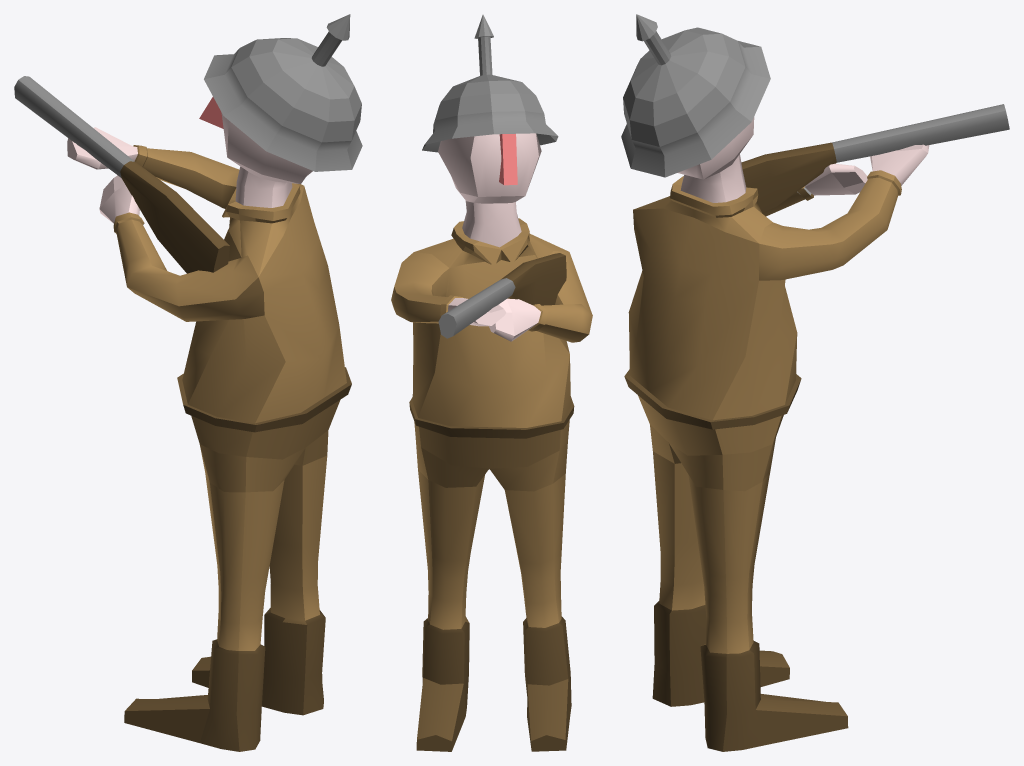
Rendered from solldier.fbx.
The picture shows the model from 3 angles, left to right: view 1: azimuth 30°, elevation 25°; view 2: azimuth 150°, elevation 25°; view 3: azimuth 270°, elevation 25°; orthographic projection. The views are drawn at different scales.
Parts seen in each view (by area): view 1: polySurface1, polySurface2, pCube2; view 2: polySurface1, polySurface2, pCube2, pCube4; view 3: polySurface1, polySurface2, pCube2.
Part boxes in pixels (x1,y1,x2,y2): polySurface1: [67, 112, 351, 751]; polySurface2: [204, 14, 362, 171]; pCube2: [14, 76, 229, 273]; polySurface1: [391, 133, 592, 751]; polySurface2: [422, 14, 558, 152]; pCube2: [438, 253, 566, 338]; pCube4: [499, 134, 517, 185]; polySurface1: [624, 117, 929, 751]; polySurface2: [621, 14, 770, 177]; pCube2: [741, 104, 1009, 212].
Size of the model in its own units: 38.27 by 131 by 62.99.
